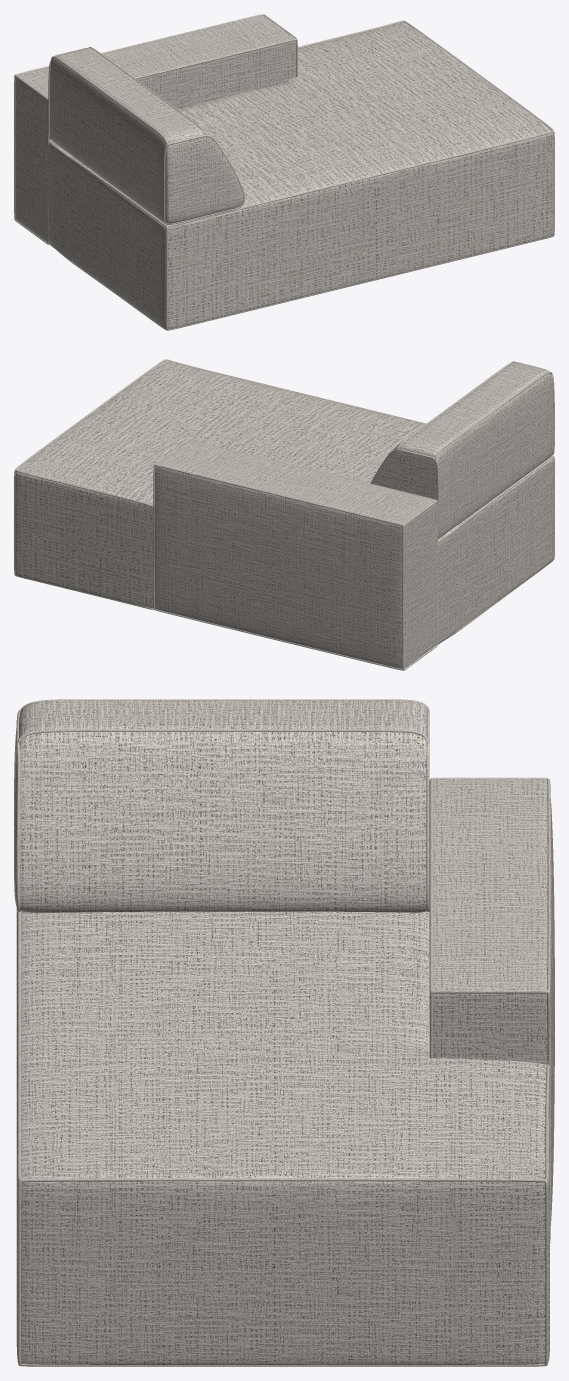
File: longchair_left_130_alpine_gray.glb
3 views of the same model, one above another, from view 1: azimuth 30°, elevation 25°; view 2: azimuth 150°, elevation 25°; view 3: azimuth 270°, elevation 25° (orthographic). The views are drawn at different scales.
Parts seen in each view (by area): view 1: Box095, Box077, Box088, Shape044, Shape048, Shape035; view 2: Box095, Box088, Box077, Shape048, Shape044, Shape035; view 3: Box095, Box077, Box088, Shape044, Shape035, Shape048.
Part boxes in pixels (box(x1,y1,x2,y2)): Box095: box(46, 21, 553, 329); Box077: box(49, 47, 243, 223); Box088: box(15, 15, 295, 242); Shape044: box(58, 20, 554, 330); Shape048: box(14, 14, 297, 244); Shape035: box(48, 47, 244, 224); Box095: box(15, 360, 554, 643); Box088: box(154, 440, 436, 668); Box077: box(372, 362, 553, 538); Shape048: box(153, 439, 437, 670); Shape044: box(14, 359, 553, 644); Shape035: box(370, 361, 554, 538); Box095: box(16, 910, 549, 1364); Box077: box(14, 700, 427, 912); Box088: box(433, 779, 554, 1225); Shape044: box(17, 911, 549, 1366); Shape035: box(16, 699, 429, 912); Shape048: box(429, 777, 550, 1243).
Bounding box in the file's own units: 1.75 × 0.8369 × 1.19.
2 materials, 2 textured.
